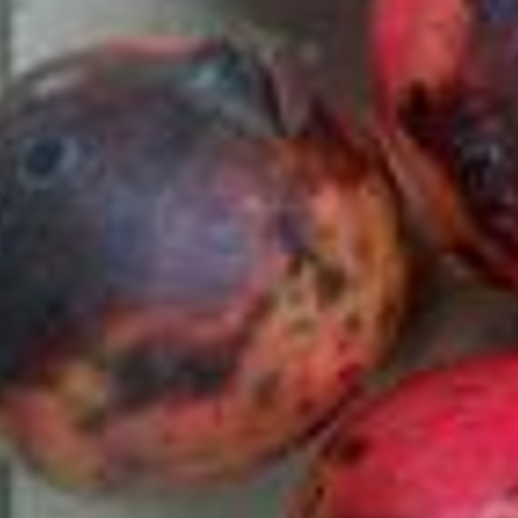pomegranate_C: (1, 25, 414, 490)
